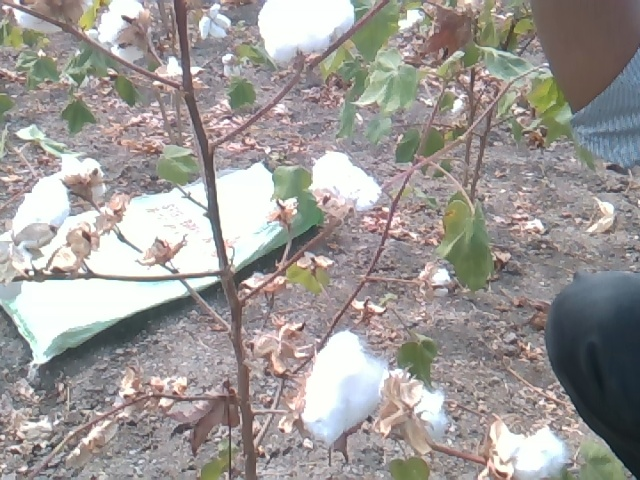cotton: (306, 334, 380, 439), (257, 1, 356, 61), (310, 152, 379, 210), (10, 177, 69, 242), (498, 428, 566, 480), (99, 1, 141, 63), (403, 383, 446, 440), (55, 152, 104, 184), (200, 4, 229, 40)
